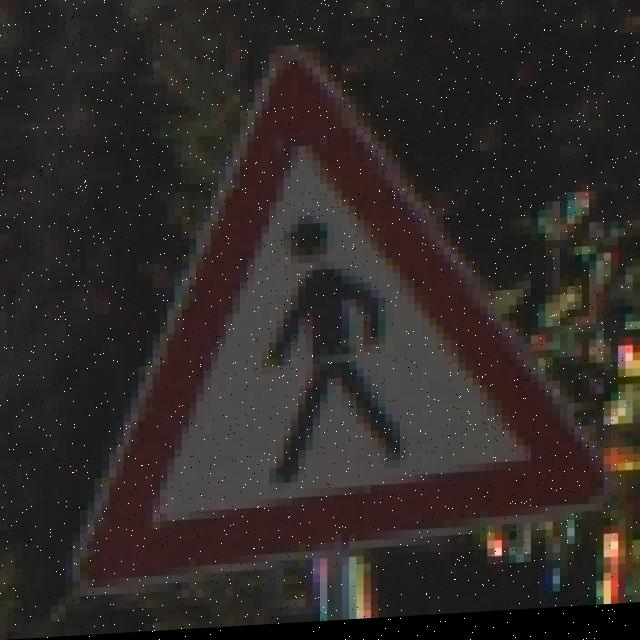crosswalk: (81, 24, 610, 556)
